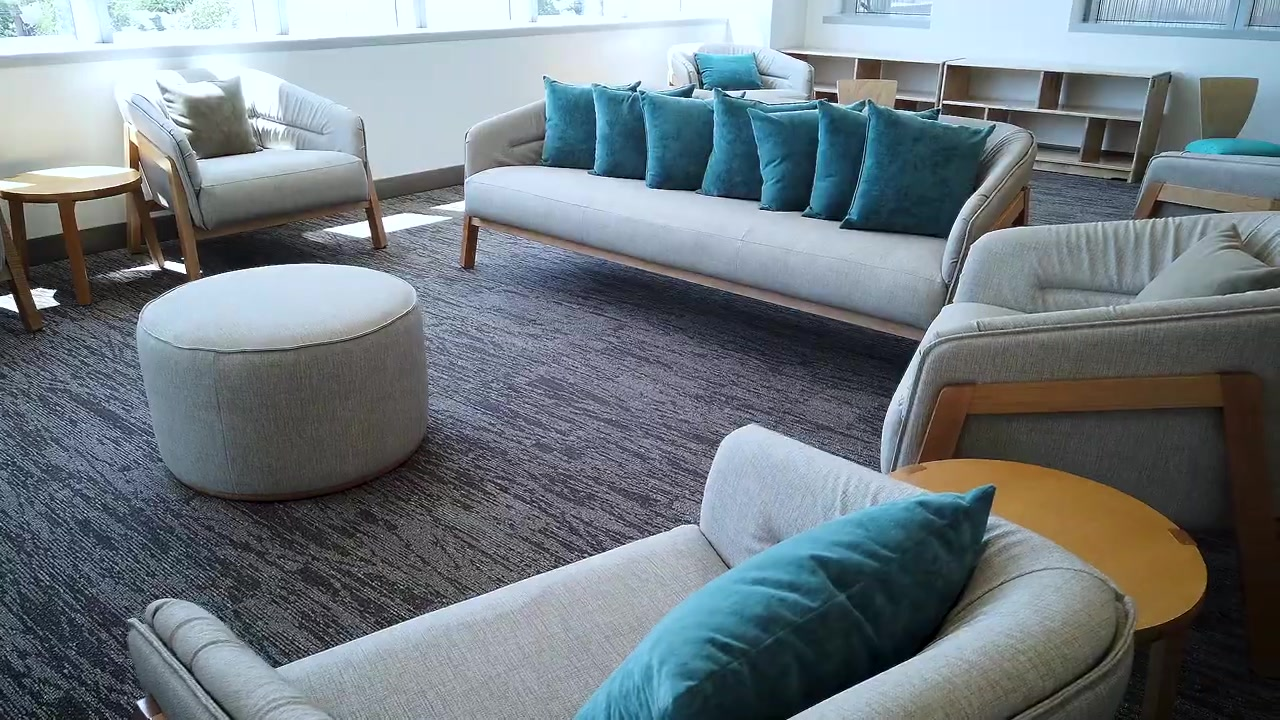chair: (1182, 76, 1280, 157)
sofa: (124, 421, 1135, 720), (878, 208, 1280, 720), (458, 84, 1037, 343), (137, 260, 431, 499), (113, 66, 388, 283), (1131, 150, 1280, 220), (667, 41, 814, 104)
table: (885, 458, 1207, 720), (1, 164, 166, 305)
